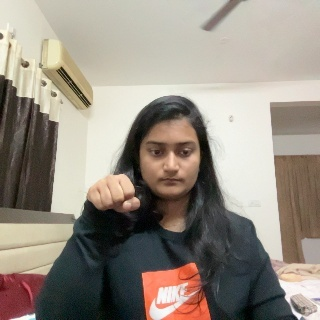Yes: (85, 170, 143, 248)
